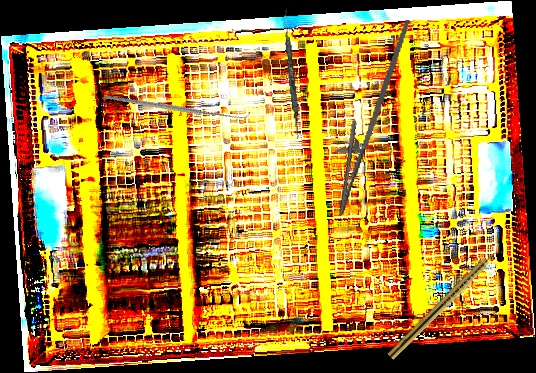Handpiece: (386, 244, 505, 363)
Hook Surgical: (103, 34, 251, 176)
Needle Holder: (321, 10, 412, 222)
Spatula Surgical: (280, 8, 303, 139)
